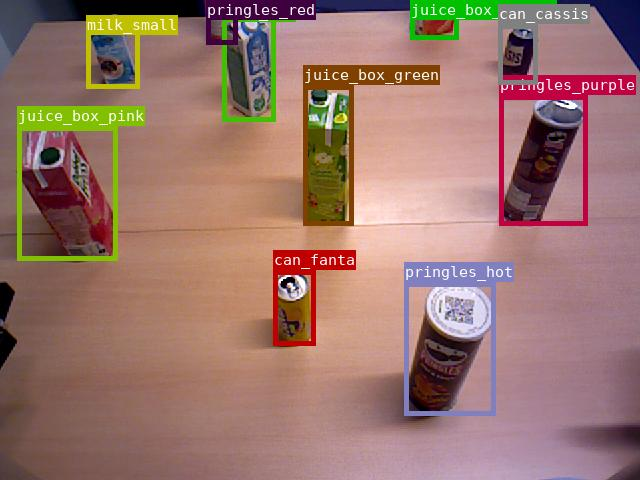can_cassis: (498, 24, 537, 84)
can_fanta: (273, 270, 315, 345)
juice_box_green: (303, 85, 353, 225)
juice_box_orange: (410, 0, 458, 39)
juice_box_pink: (17, 126, 117, 260)
milk_big: (222, 2, 275, 121)
milk_small: (86, 15, 139, 88)
pringles_hot: (404, 282, 495, 415)
pringles_purple: (499, 95, 587, 225)
pringles_red: (206, 0, 237, 44)
